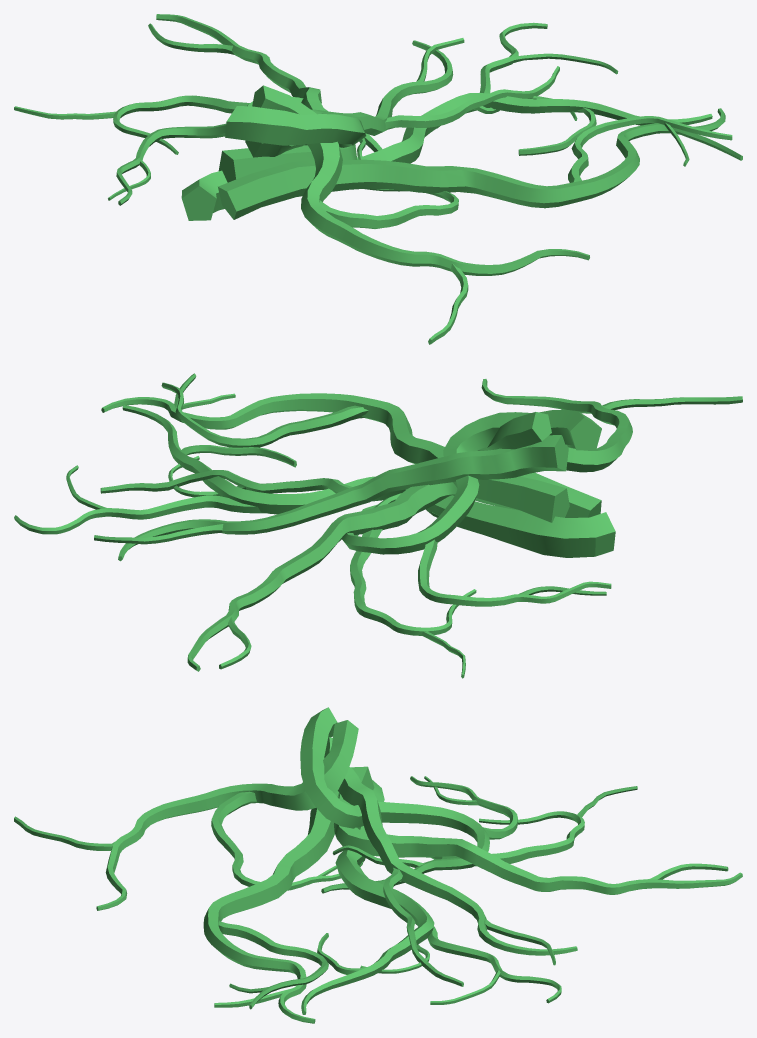
Rendered from roots_set_E.fbx.
3 views of the same model, one above another, from view 1: azimuth 30°, elevation 25°; view 2: azimuth 150°, elevation 25°; view 3: azimuth 270°, elevation 25° (orthographic). The views are drawn at different scales.
Parts seen in each view (by area): view 1: roots_set_E_A, roots_set_E_E, roots_set_E_B, roots_set_E_D, roots_set_E_F, roots_set_E_C; view 2: roots_set_E_B, roots_set_E_C, roots_set_E_D, roots_set_E_A, roots_set_E_F, roots_set_E_E; view 3: roots_set_E_D, roots_set_E_A, roots_set_E_E, roots_set_E_F, roots_set_E_C, roots_set_E_B.
Boxes of the visible parts, x1,y1,x2,y2 form: roots_set_E_A: [218, 108, 742, 219]; roots_set_E_E: [252, 85, 589, 344]; roots_set_E_B: [181, 22, 712, 220]; roots_set_E_D: [14, 14, 357, 182]; roots_set_E_F: [108, 97, 382, 205]; roots_set_E_C: [245, 38, 577, 157]; roots_set_E_B: [14, 405, 615, 557]; roots_set_E_C: [94, 435, 568, 561]; roots_set_E_D: [187, 476, 569, 678]; roots_set_E_A: [101, 373, 601, 517]; roots_set_E_F: [342, 409, 611, 606]; roots_set_E_E: [426, 379, 742, 517]; roots_set_E_D: [334, 766, 742, 894]; roots_set_E_A: [203, 790, 339, 1023]; roots_set_E_E: [14, 720, 362, 910]; roots_set_E_F: [300, 707, 517, 893]; roots_set_E_C: [324, 737, 577, 986]; roots_set_E_B: [301, 780, 561, 1014].
Bounding box in the file's own units: 547 × 117 × 689.
